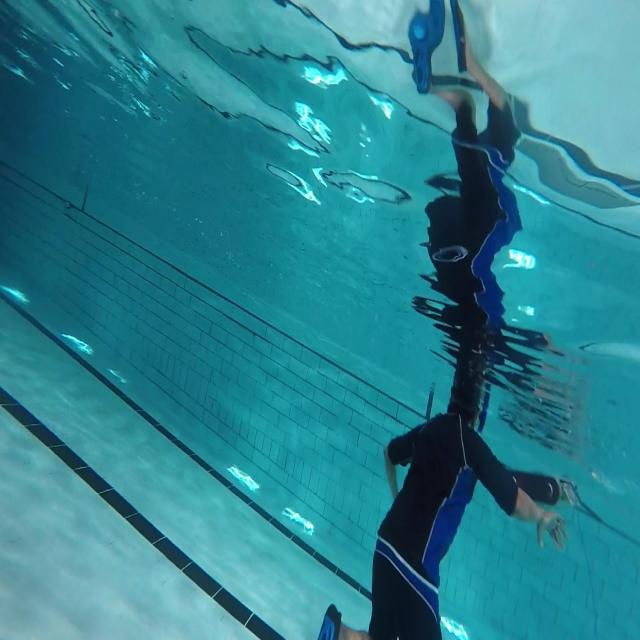human: (317, 331, 576, 638)
